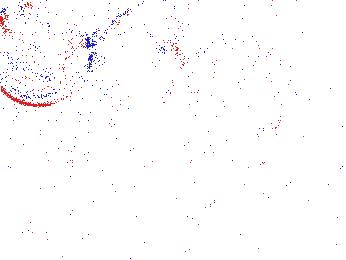moon jellyfish: (58, 30, 184, 119), (1, 8, 91, 107), (192, 62, 282, 133), (168, 36, 260, 97), (102, 1, 190, 64)
